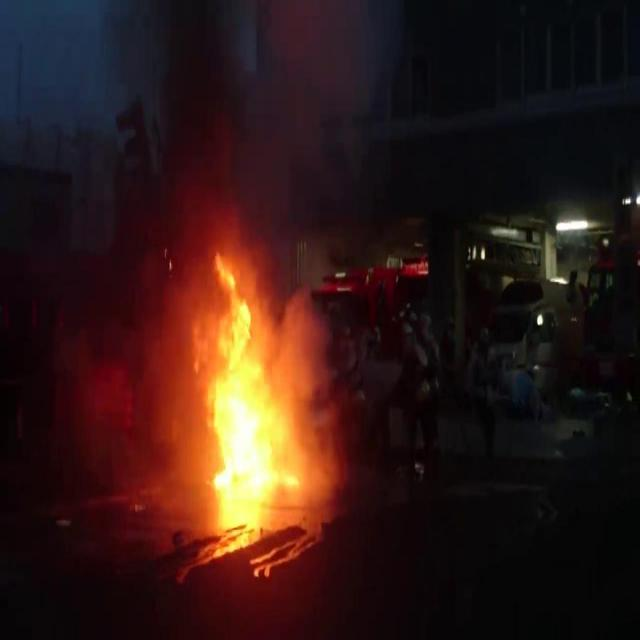fire: (177, 241, 349, 522)
